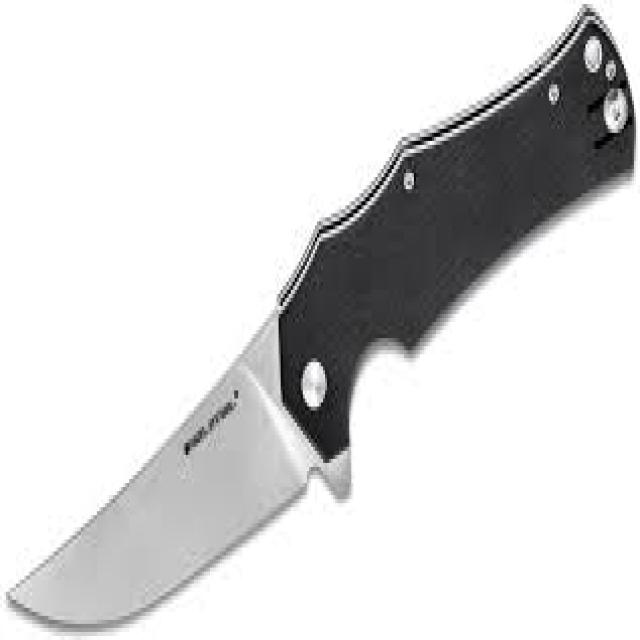knives: (2, 0, 636, 636)
